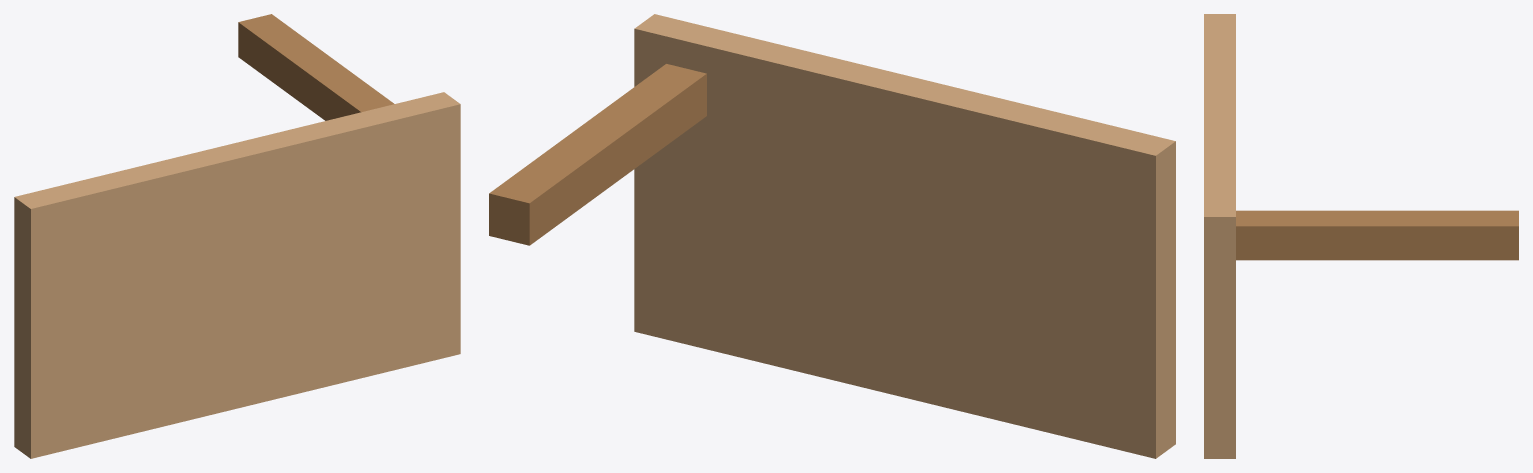
File: dining-tables.glb
3 views of the same model, side by side, from view 1: azimuth 30°, elevation 25°; view 2: azimuth 150°, elevation 25°; view 3: azimuth 270°, elevation 25° (orthographic). The views are drawn at different scales.
Visible parts, largest first — view 1: Top, Leg; view 2: Top, Leg; view 3: Leg, Top.
Boxes of the visible parts, x1,y1,x2,y2 form: Top: (14, 92, 460, 458); Leg: (238, 14, 394, 120); Top: (634, 14, 1175, 458); Leg: (489, 64, 706, 245); Leg: (1236, 210, 1518, 260); Top: (1204, 14, 1235, 458).
Size of the model in its own units: 1.8 by 1 by 1.18.
